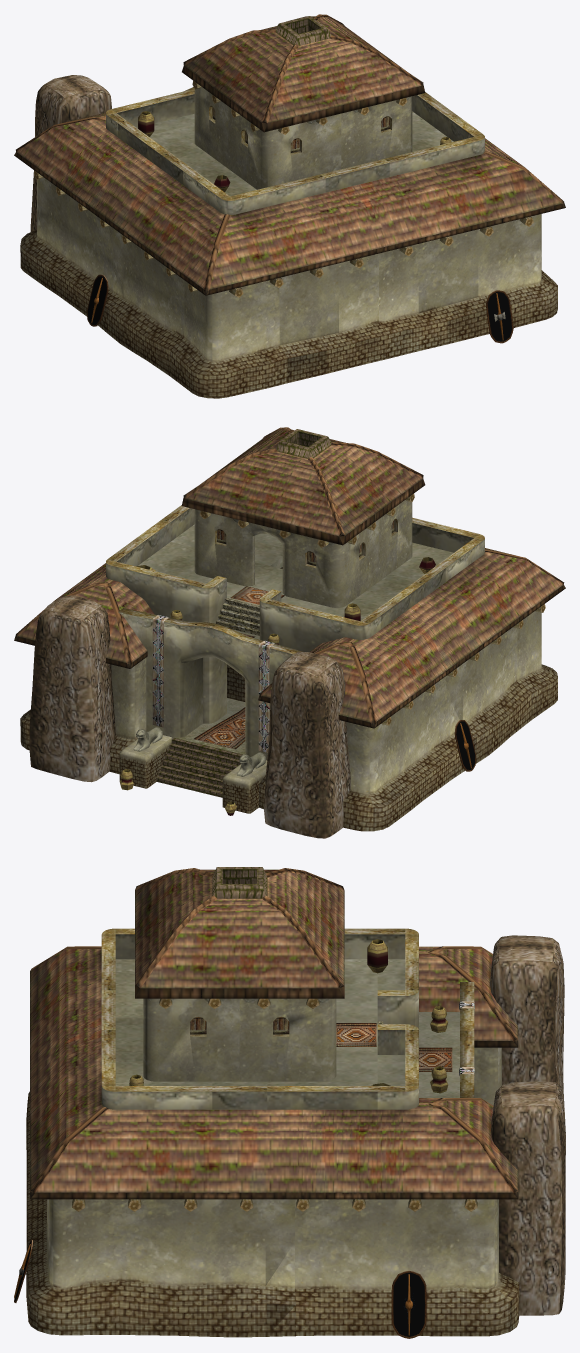
File: iber_temple.glb
The picture shows the model from 3 angles, top to bottom: view 1: azimuth 30°, elevation 25°; view 2: azimuth 150°, elevation 25°; view 3: azimuth 270°, elevation 25°; orthographic projection. The views are drawn at different scales.
Parts seen in each view (by area): view 1: iber_temple_part0, iber_temple_part6, iber_temple_part2; view 2: iber_temple_part0, iber_temple_part2; view 3: iber_temple_part0, iber_temple_part11.
Part boxes in pixels (x1,y1,x2,y2): iber_temple_part0: (14,14,565,398); iber_temple_part6: (486,290,513,343); iber_temple_part2: (87,274,108,326); iber_temple_part0: (14,427,565,838); iber_temple_part2: (454,720,476,771); iber_temple_part0: (26,867,565,1337); iber_temple_part11: (391,1270,426,1338).
Size of the model in its own units: 5 by 3.51 by 4.93.
4 materials, 4 textured.
